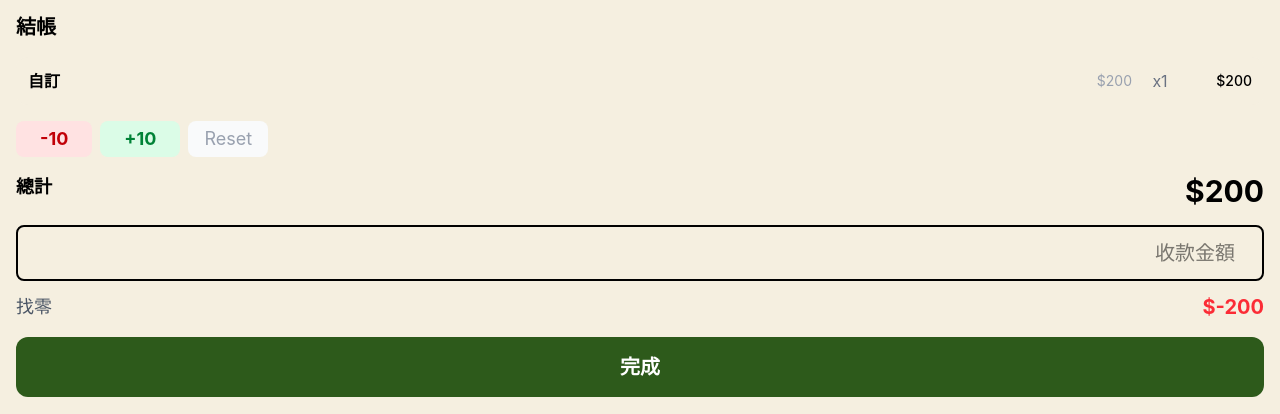
Test: CheckoutFlow › applies -10 discount on button click
The width and height of the screenshot is (1280, 414).
Step 1. Click the button "-10" → [54, 139], box [16,121,92,157]
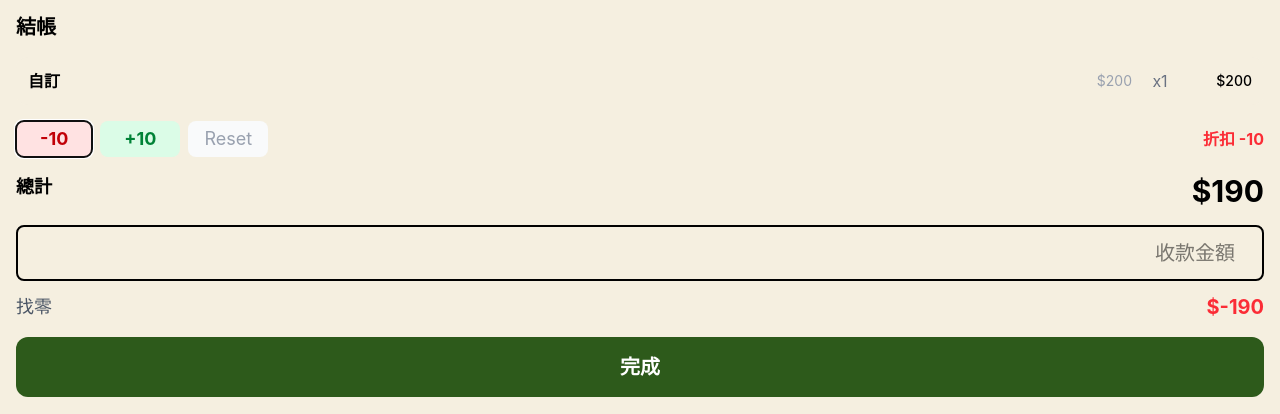
Expected: the text "折扣 -10" is shown, [1203,127,1264,151]
